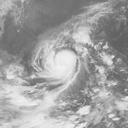cyclone: (36, 41, 83, 87)
